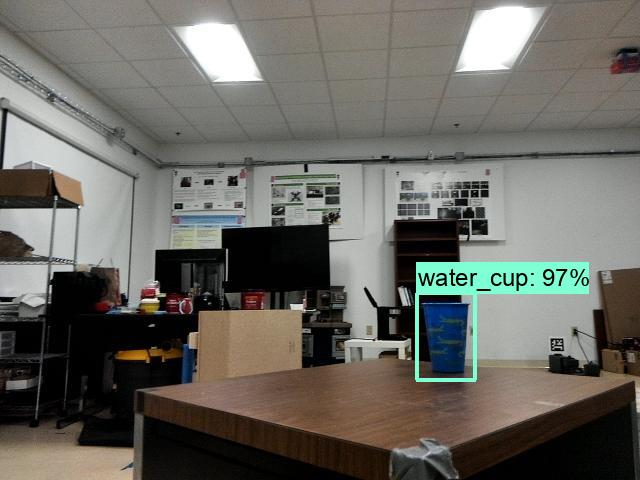water_cup: (418, 292, 476, 378)
